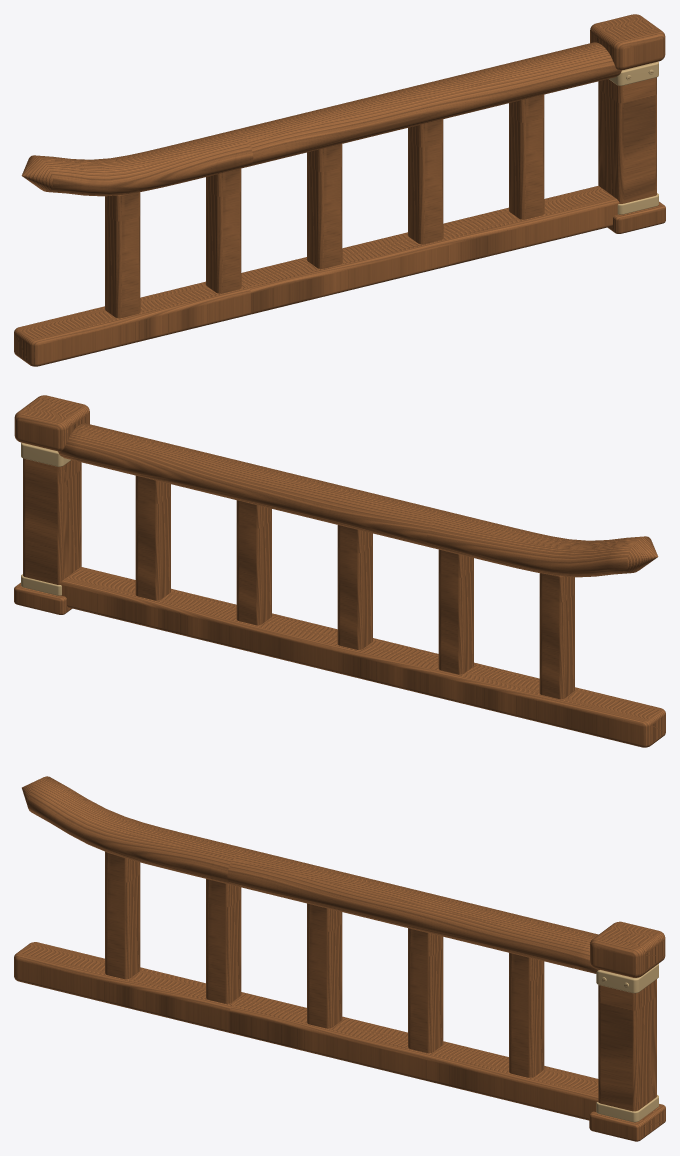
The model's file is theatre_rail_landing_right.glb.
The picture shows the model from 3 angles, top to bottom: view 1: azimuth 30°, elevation 25°; view 2: azimuth 150°, elevation 25°; view 3: azimuth 330°, elevation 25°; orthographic projection.
Visible parts, largest first — view 1: right_bottom, right_curved_handrail, right_outer_shaft, right_baluster1, right_baluster4, right_baluster2, right_baluster5, right_baluster3, right_outer_cap, right_outer_foot, right_outer_collar; view 2: right_bottom, right_curved_handrail, right_outer_shaft, right_baluster1, right_baluster4, right_baluster2, right_baluster3, right_baluster5, right_outer_cap, right_outer_foot, right_outer_collar; view 3: right_curved_handrail, right_bottom, right_outer_shaft, right_baluster1, right_baluster2, right_baluster3, right_baluster4, right_baluster5, right_outer_cap, right_outer_foot, right_outer_collar, right_outer_foot_band.
Part boxes in pixels (x1,y1,x2,y2): right_bottom: (14,186,619,366); right_curved_handrail: (21,42,621,196); right_outer_shaft: (598,77,656,203); right_baluster1: (105,192,140,318); right_baluster4: (408,119,443,244); right_baluster2: (206,168,241,293); right_baluster5: (509,94,544,219); right_baluster3: (307,144,342,268); right_outer_cap: (590,14,665,70); right_outer_foot: (607,201,665,233); right_outer_collar: (609,61,658,85); right_bottom: (59,567,665,747); right_curved_handrail: (58,423,658,577); right_outer_shaft: (23,458,81,584); right_baluster1: (539,573,574,699); right_baluster4: (236,500,271,625); right_baluster2: (438,549,473,674); right_baluster3: (337,525,372,649); right_baluster5: (135,475,170,600); right_outer_cap: (14,395,89,451); right_outer_foot: (14,582,71,614); right_outer_collar: (21,442,70,466); right_curved_handrail: (22,776,599,973); right_bottom: (14,942,598,1120); right_outer_shaft: (598,979,656,1111); right_baluster1: (105,851,140,979); right_baluster2: (206,879,241,1003); right_baluster3: (307,903,342,1028); right_baluster4: (408,928,443,1053); right_baluster5: (509,953,544,1077); right_outer_cap: (590,921,665,977); right_outer_foot: (589,1104,665,1141); right_outer_collar: (596,963,658,993); right_outer_foot_band: (596,1095,658,1122).
Bounding box in the file's own units: 0.506 × 0.1561 × 0.042.
Materials: 3 (1 with a texture image).
